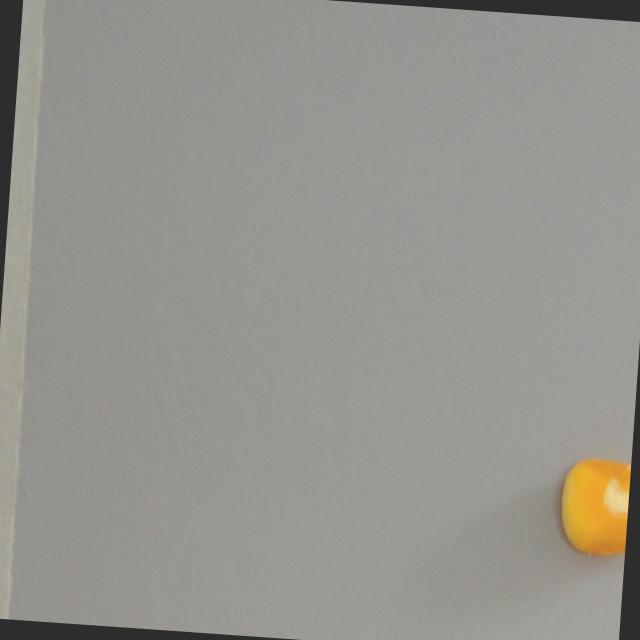no_canjicado: (556, 454, 631, 560)
